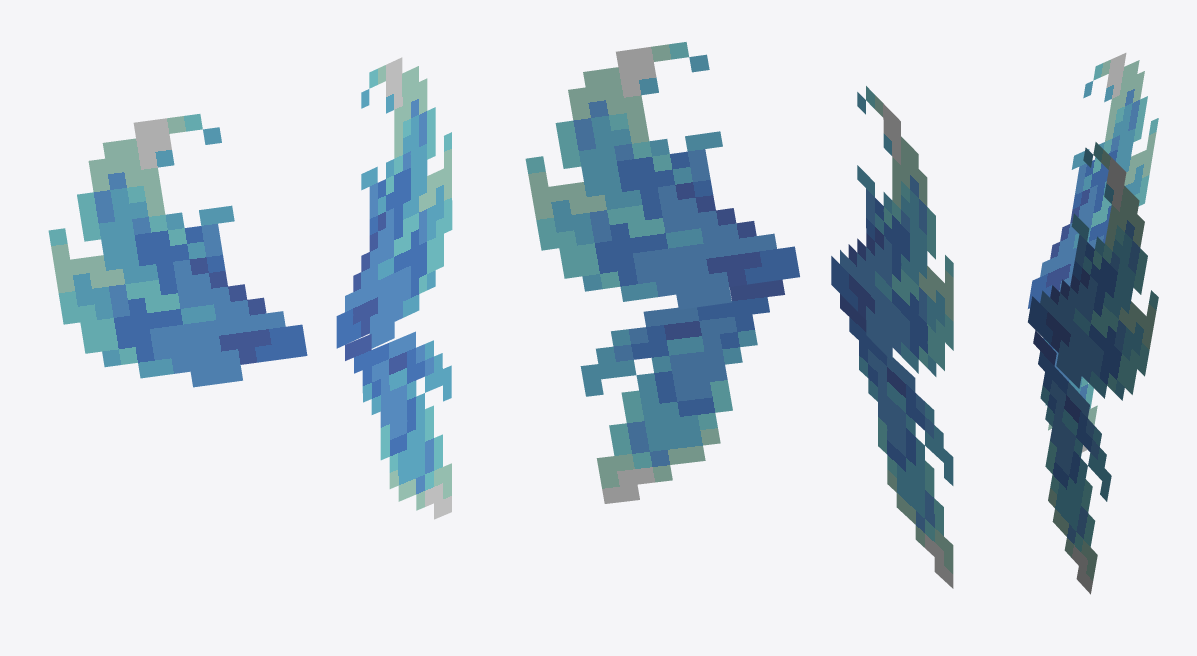
Rendered from sl_fairy_wings.glb.
The picture shows the model from 3 angles, left to right: view 1: azimuth 30°, elevation 25°; view 2: azimuth 150°, elevation 25°; view 3: azimuth 270°, elevation 25°; orthographic projection. The views are drawn at different scales.
Parts seen in each view (by area): view 1: bb_fairy_wings; view 2: bb_fairy_wings; view 3: bb_fairy_wings.
Boxes of the visible parts, box(x1,y1,x2,y2) form: bb_fairy_wings: box(48, 57, 452, 519); bb_fairy_wings: box(525, 42, 953, 588); bb_fairy_wings: box(1028, 53, 1158, 594).
Size of the model in its own units: 1.91 by 2.17 by 0.7766.
1 material, 1 textured.
